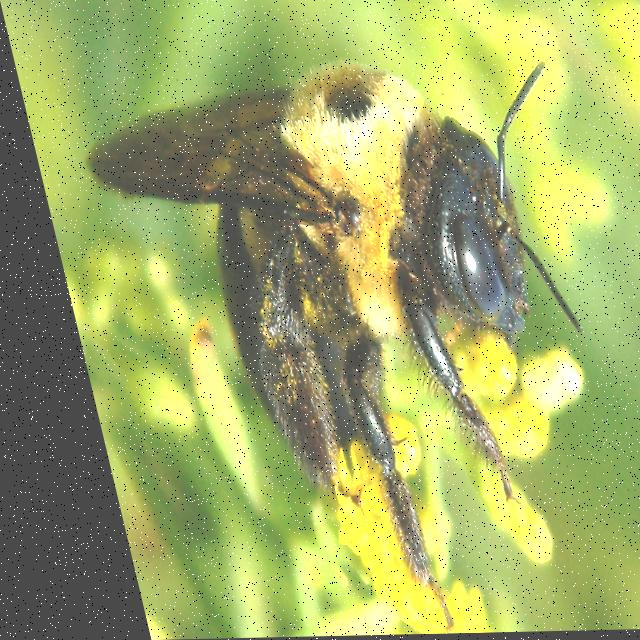Xylocopa: (60, 55, 635, 588)
